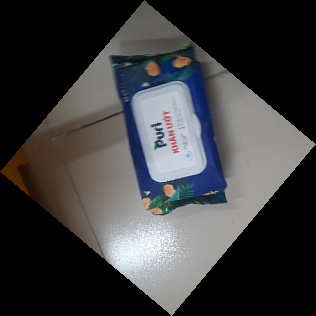Puri Xanh: (108, 41, 231, 216)
